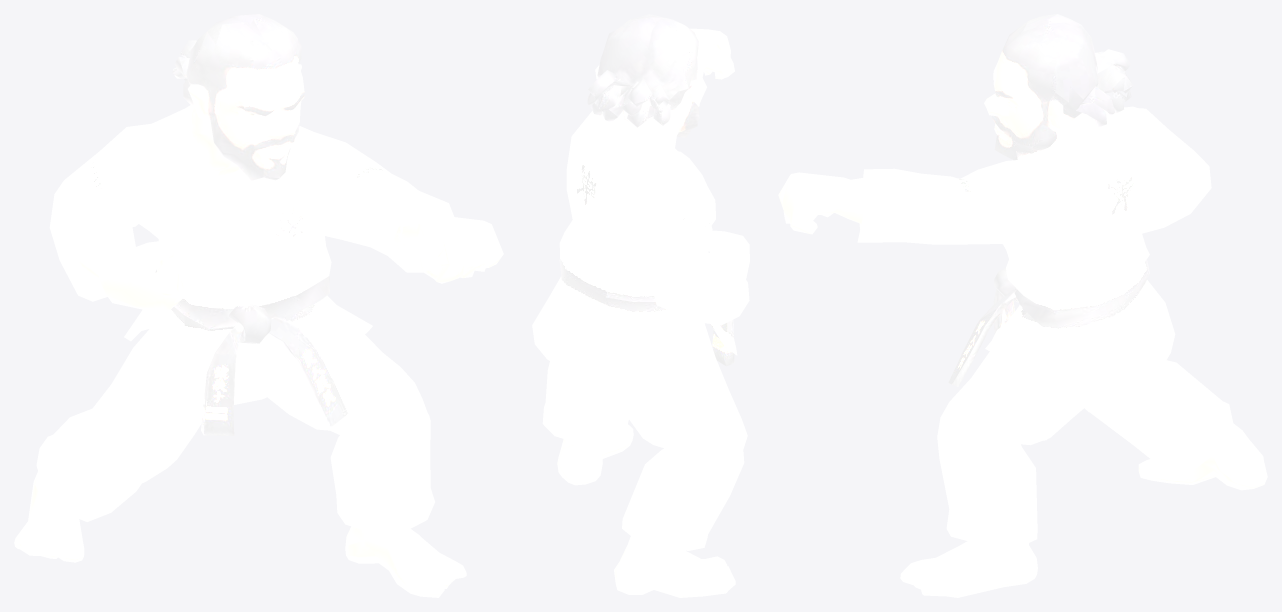
The picture shows the model from 3 angles, left to right: view 1: azimuth 30°, elevation 25°; view 2: azimuth 150°, elevation 25°; view 3: azimuth 270°, elevation 25°; orthographic projection. The views are drawn at different scales.
Parts seen in each view (by area): view 1: mesh_node; view 2: mesh_node; view 3: mesh_node.
Part boxes in pixels (left/top/right/bottom): mesh_node: left=14, top=14, right=503, bottom=597; mesh_node: left=532, top=14, right=749, bottom=597; mesh_node: left=778, top=14, right=1267, bottom=597.
Size of the model in its own units: 0.5938 by 0.998 by 0.8691.
Materials: 1 (1 with a texture image).
